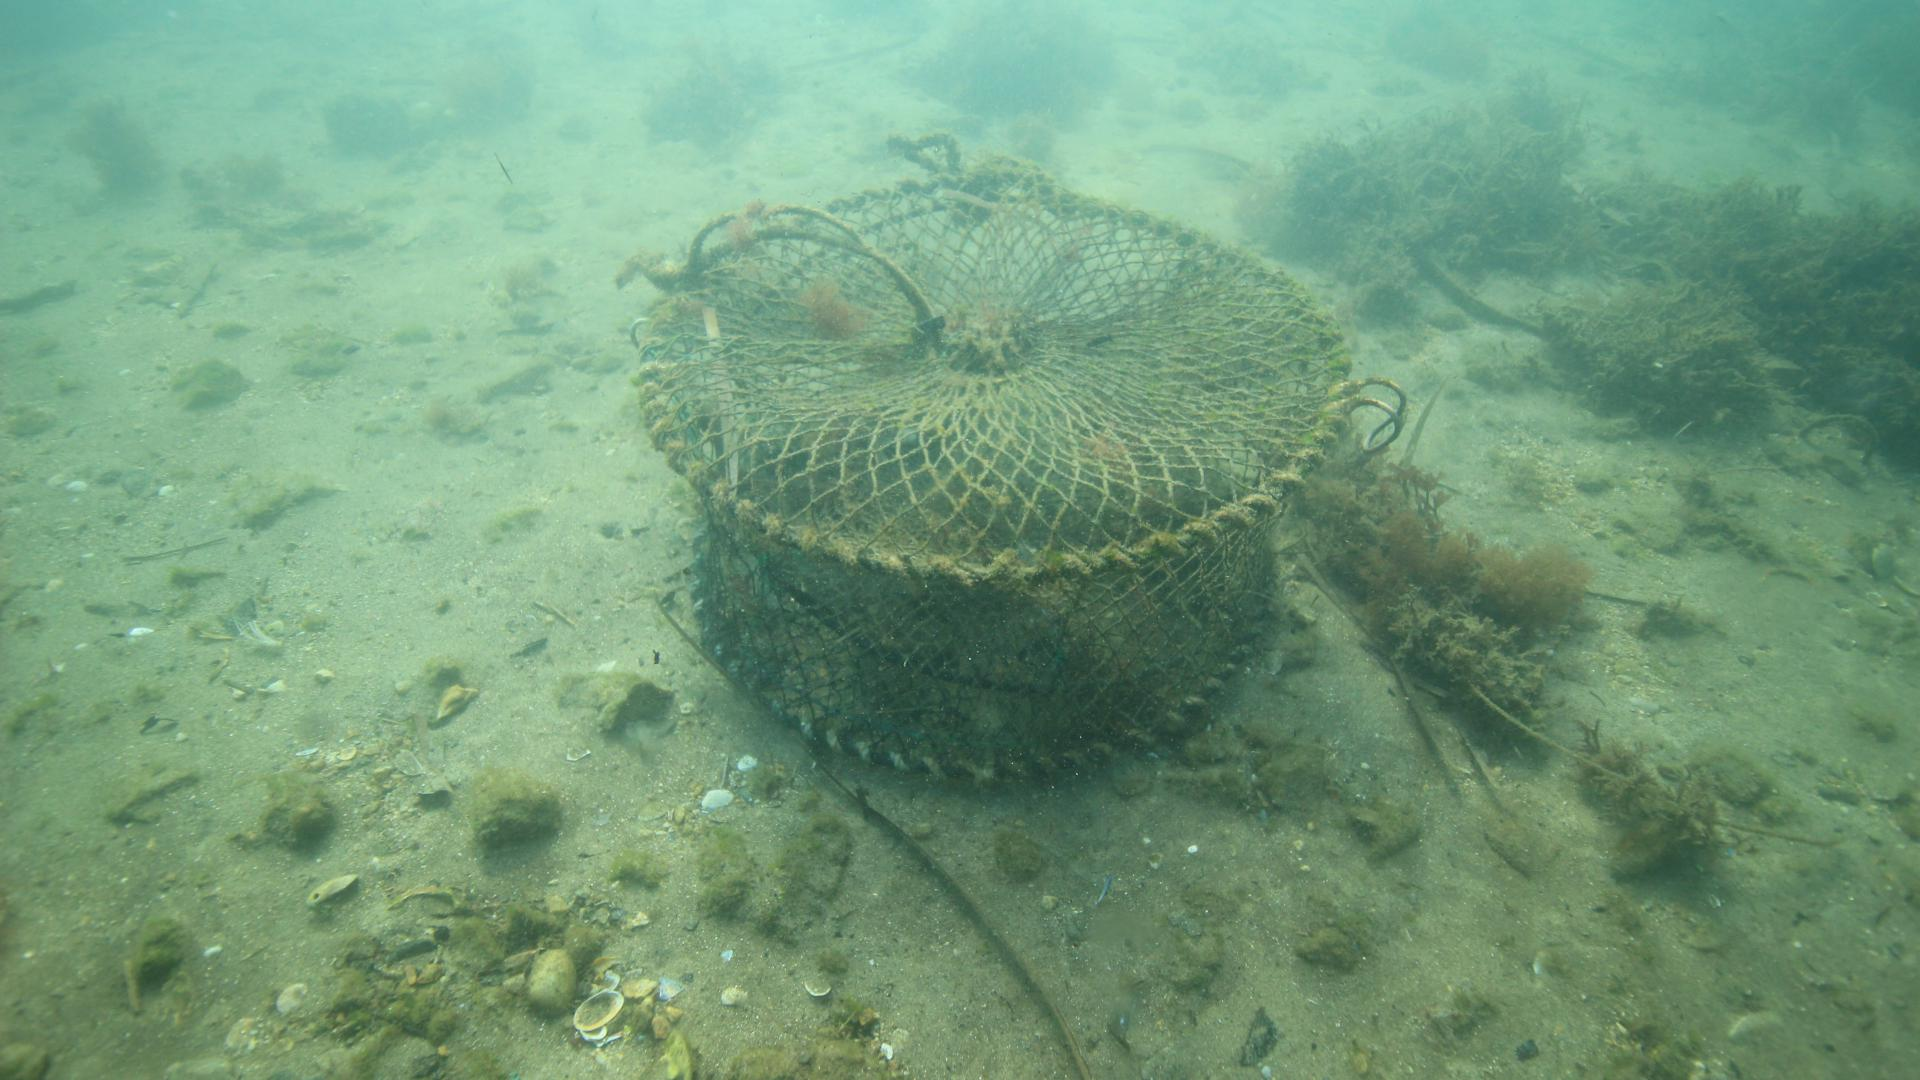circular fish trap: (630, 167, 1354, 785)
